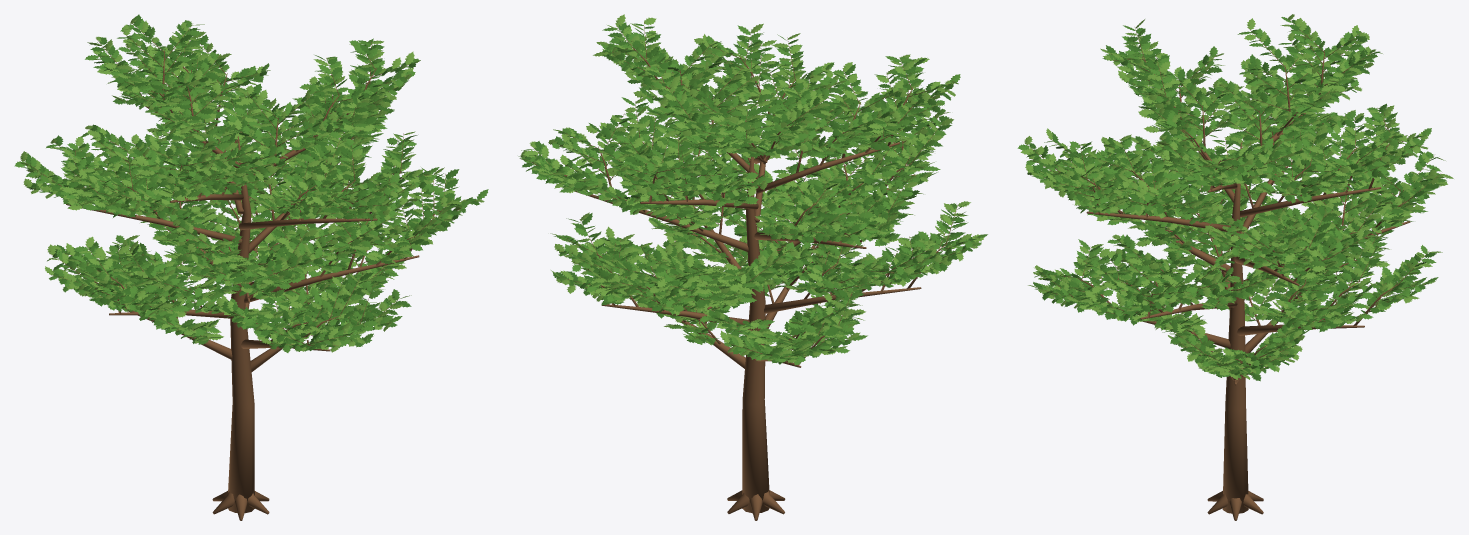
The model's file is oak-street-tree-source.glb.
The picture shows the model from 3 angles, left to right: view 1: azimuth 30°, elevation 25°; view 2: azimuth 150°, elevation 25°; view 3: azimuth 270°, elevation 25°; orthographic projection. The views are drawn at different scales.
Parts seen in each view (by area): view 1: Foliage 1, Foliage 2, Foliage 0, Trunk, Scaffold branch.010, Scaffold branch.005, Scaffold branch.009; view 2: Foliage 2, Foliage 1, Foliage 0, Trunk, Scaffold branch.012, Scaffold branch.004, Scaffold branch.008, Scaffold branch.011; view 3: Foliage 2, Foliage 1, Foliage 0, Trunk, Scaffold branch.011, Scaffold branch.010.
Part boxes in pixels (left/top/right/bottom): Foliage 1: left=14, top=18, right=488, bottom=352; Foliage 2: left=20, top=17, right=484, bottom=352; Foliage 0: left=25, top=14, right=479, bottom=350; Trunk: left=228, top=136, right=254, bottom=513; Scaffold branch.010: left=239, top=218, right=377, bottom=230; Scaffold branch.005: left=244, top=255, right=419, bottom=303; Scaffold branch.009: left=66, top=204, right=242, bottom=244; Foliage 2: left=519, top=14, right=983, bottom=362; Foliage 1: left=518, top=23, right=987, bottom=365; Foliage 0: left=522, top=22, right=977, bottom=364; Trunk: left=742, top=148, right=769, bottom=513; Scaffold branch.012: left=756, top=142, right=899, bottom=193; Scaffold branch.004: left=764, top=287, right=921, bottom=313; Scaffold branch.008: left=575, top=191, right=748, bottom=251; Scaffold branch.011: left=640, top=199, right=758, bottom=209; Foliage 2: left=1020, top=14, right=1453, bottom=379; Foliage 1: left=1017, top=17, right=1446, bottom=378; Foliage 0: left=1026, top=19, right=1447, bottom=381; Trunk: left=1222, top=142, right=1248, bottom=513; Scaffold branch.011: left=1240, top=187, right=1381, bottom=217; Scaffold branch.010: left=1086, top=211, right=1230, bottom=232.
Size of the model in its own units: 7.76 by 8.61 by 7.64.
